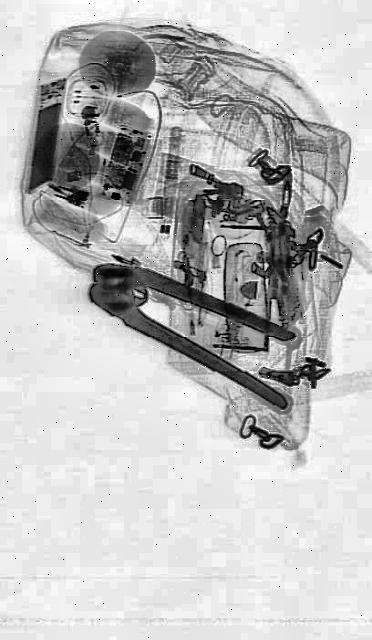Pliers: (82, 240, 302, 412)
